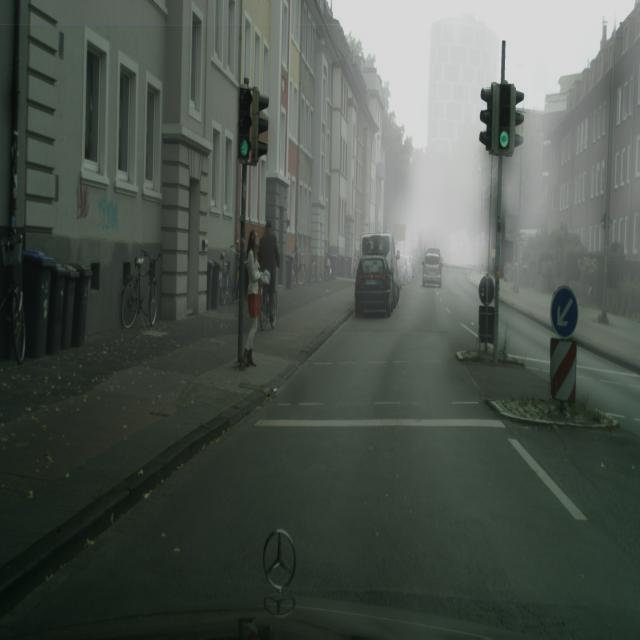bicycle: (359, 231, 401, 296)
bus: (355, 254, 395, 317), (422, 249, 442, 287), (400, 254, 412, 284), (408, 256, 418, 278)
car: (121, 251, 160, 329), (0, 279, 26, 364), (259, 221, 278, 329)
person: (240, 231, 268, 367)
